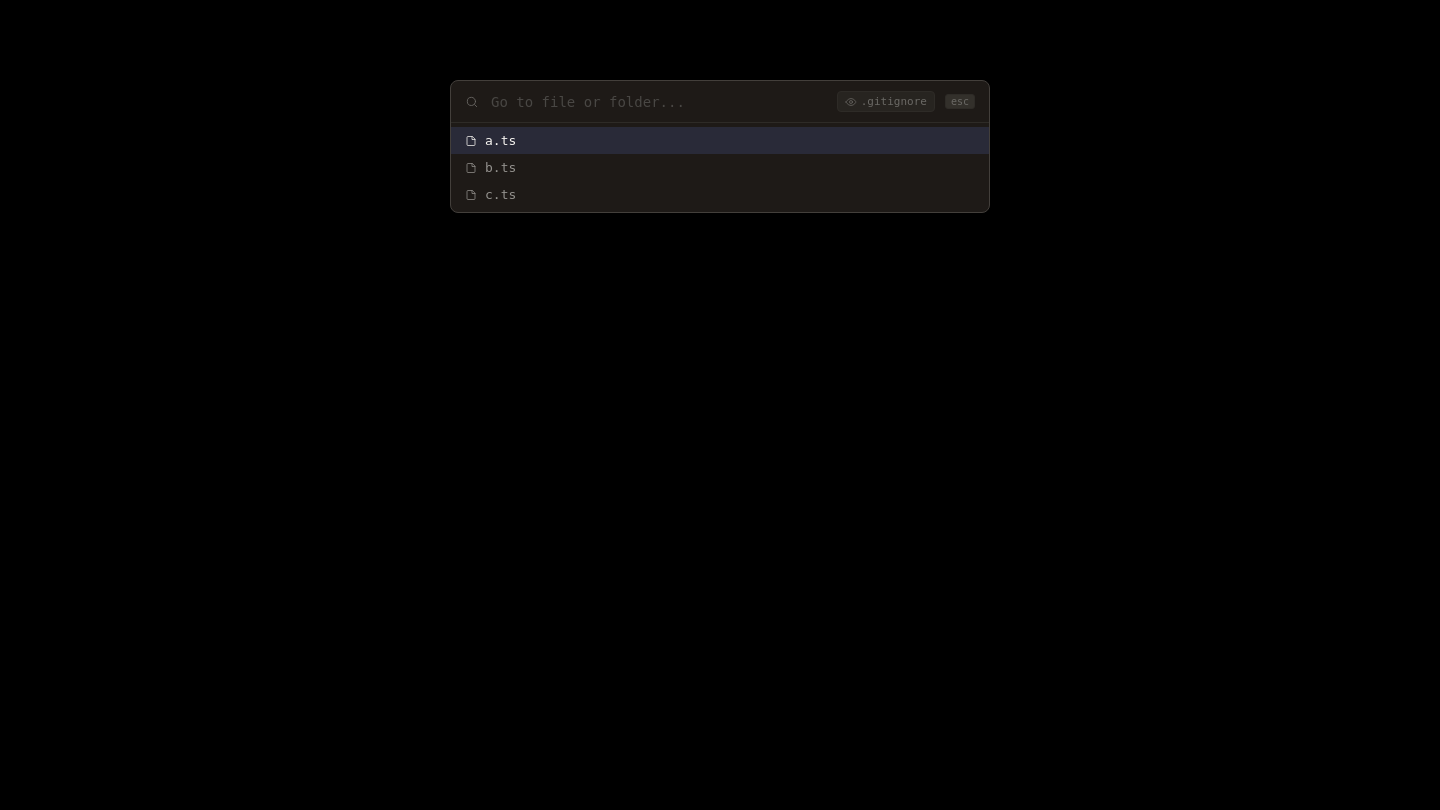
Test: QuickOpen › choosing a file › goes back to the first hit when the results change
In the field: coordinates (658, 102) [489, 92, 827, 110], type "ts"
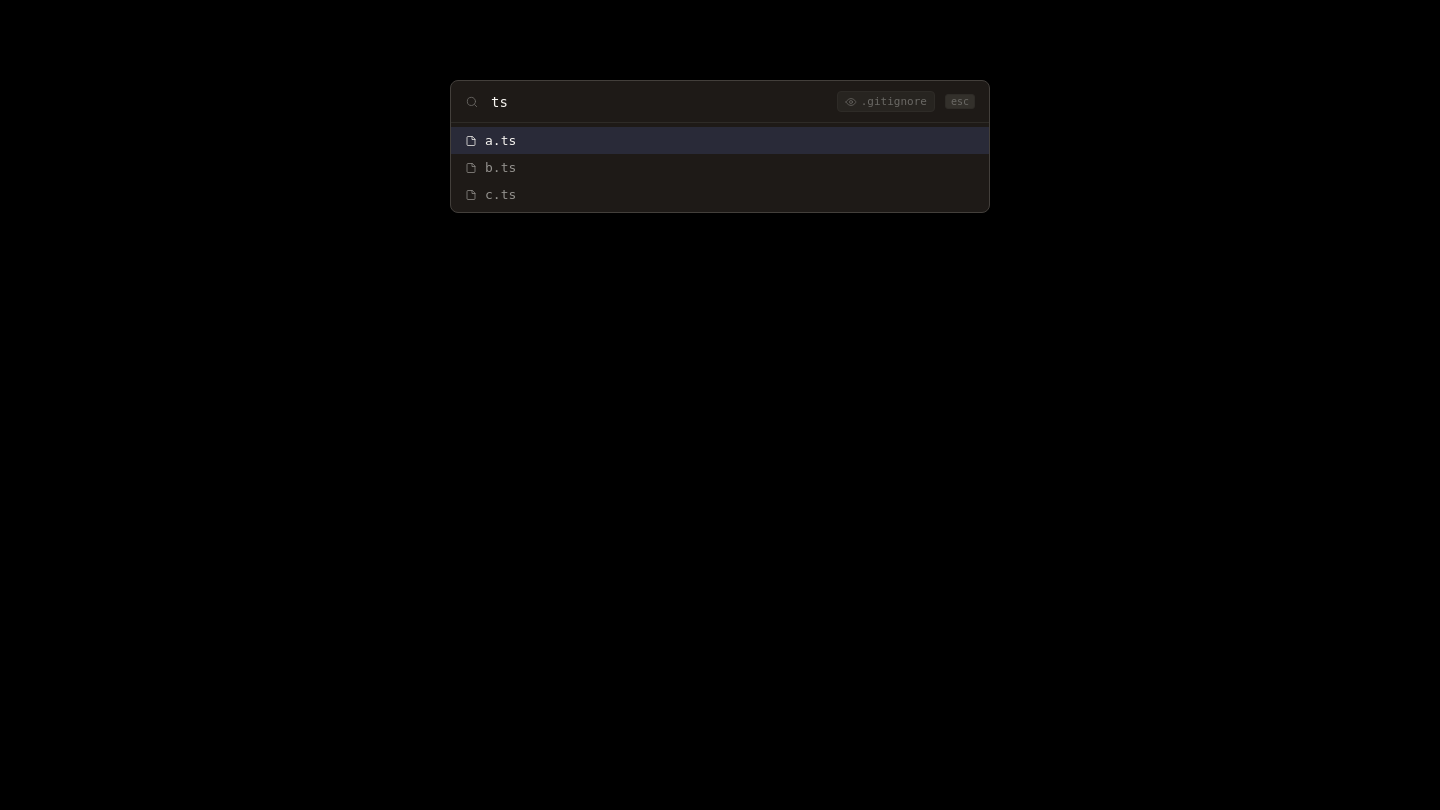
Press Arrowdown Arrowdown
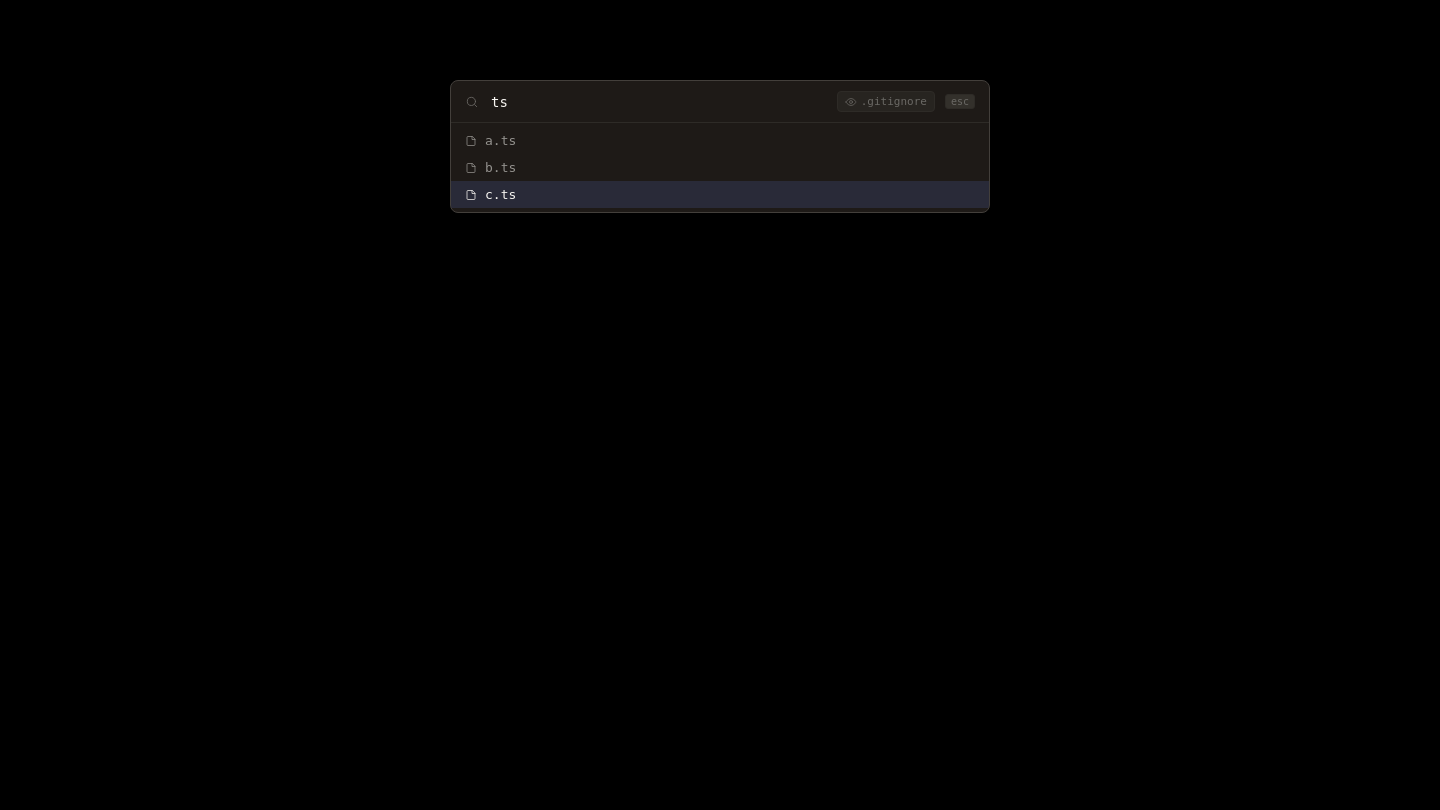
Check: the text with class "result-name" reads "c.ts", box [485, 187, 516, 202]
In the field: coordinates (658, 102) [489, 92, 827, 110], type "x"
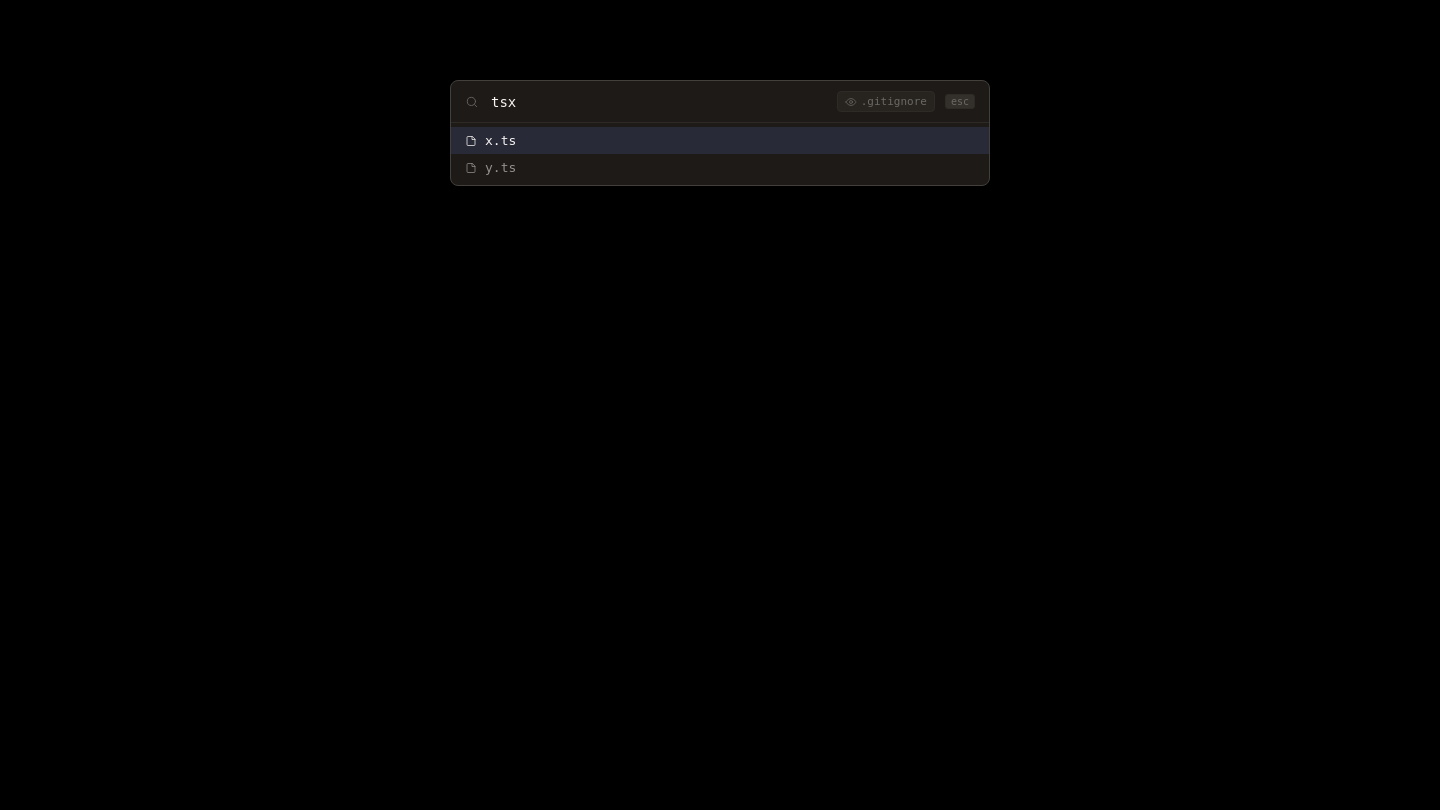
Check: the text with class "result-name" reads "x.ts", box [485, 133, 516, 148]
